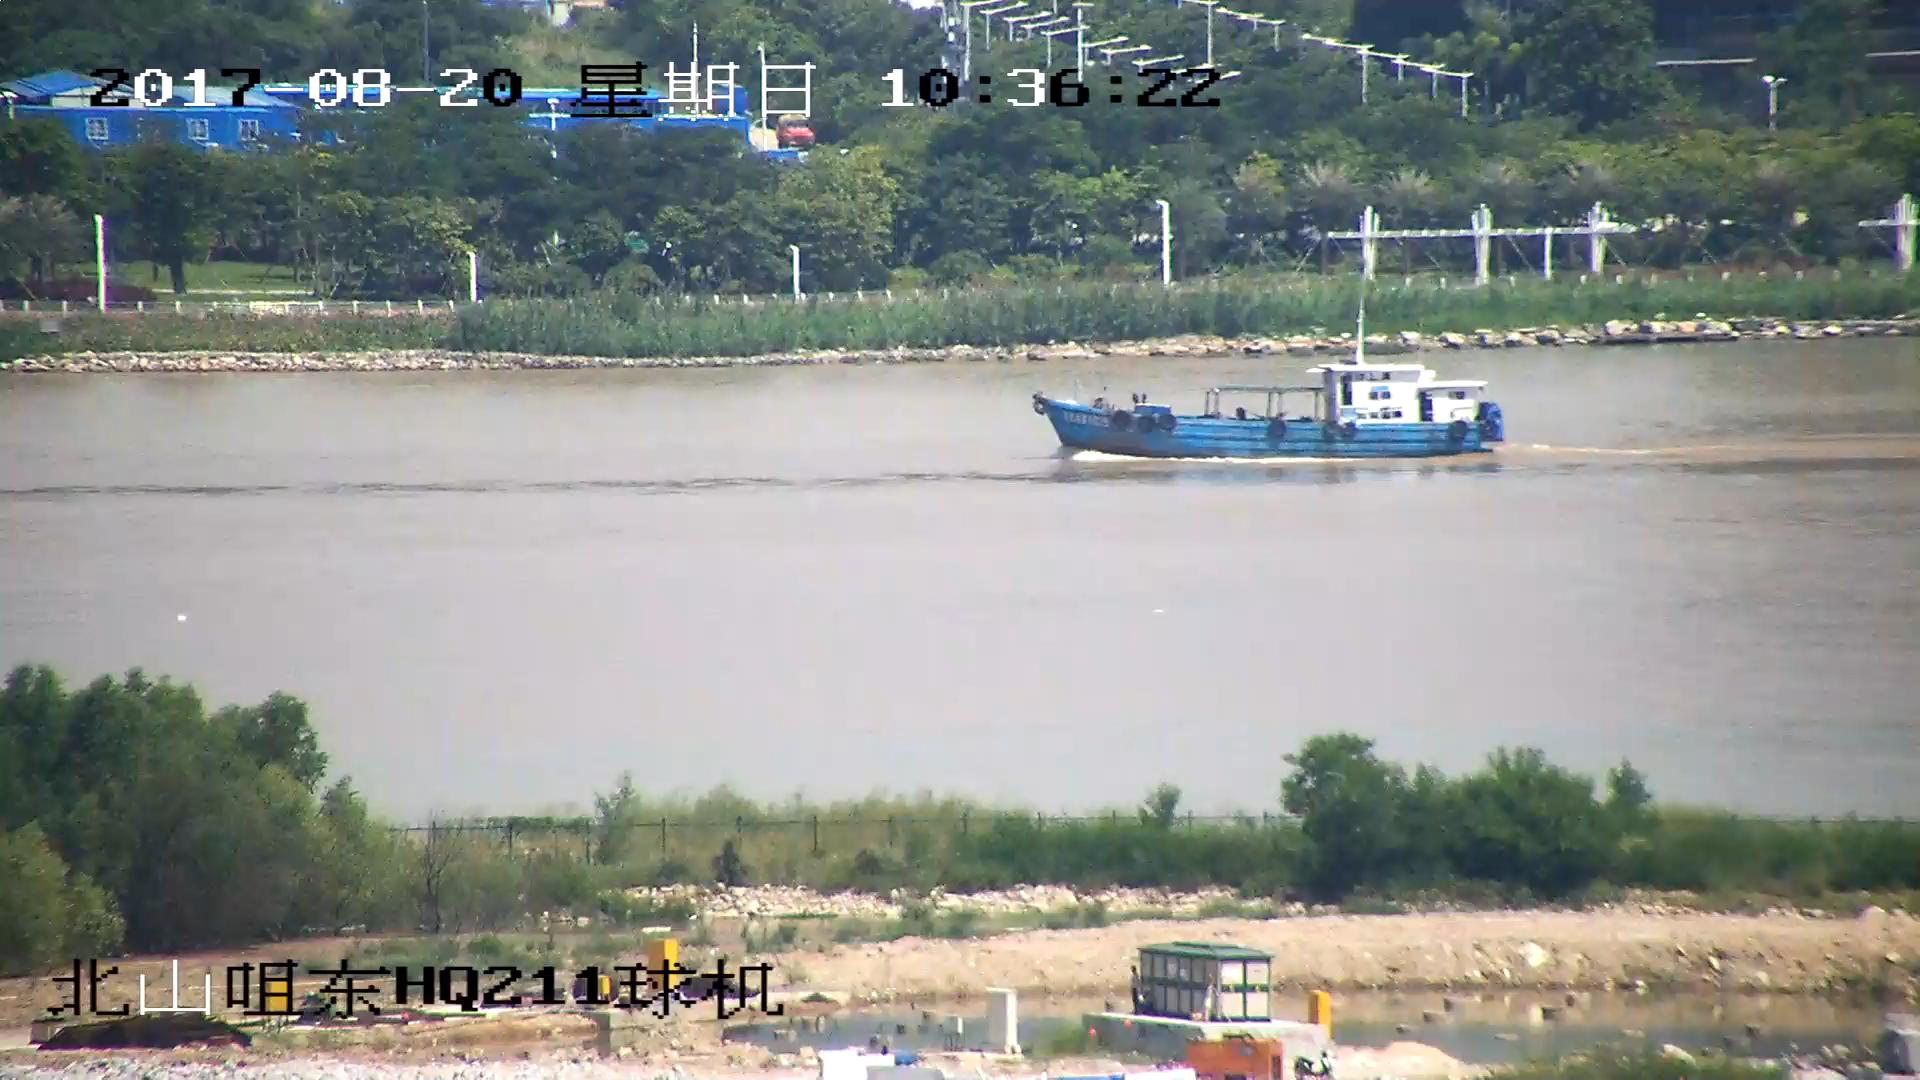fishing boat: (1035, 298, 1507, 461)
